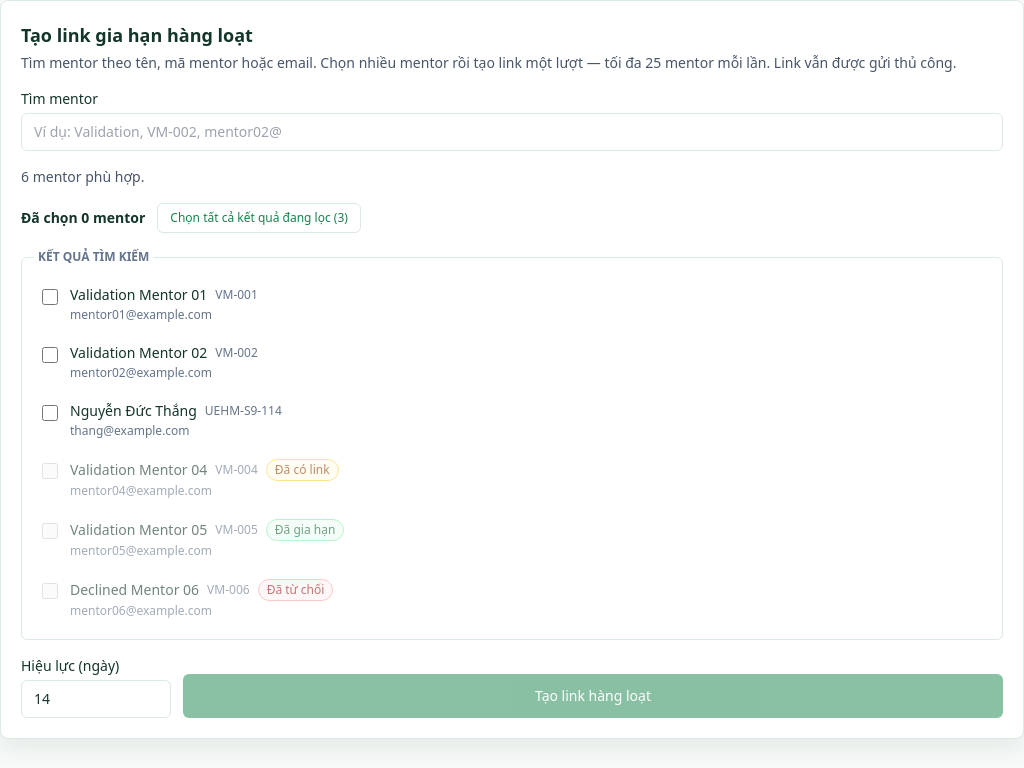
Test: M075 picker — search › filters by mentor code
This screenshot has width=1024, height=768.
Type "VM-003" into the search field labelled "Tìm mentor" at point(512, 132), box left=21, top=113, right=1003, bottom=151
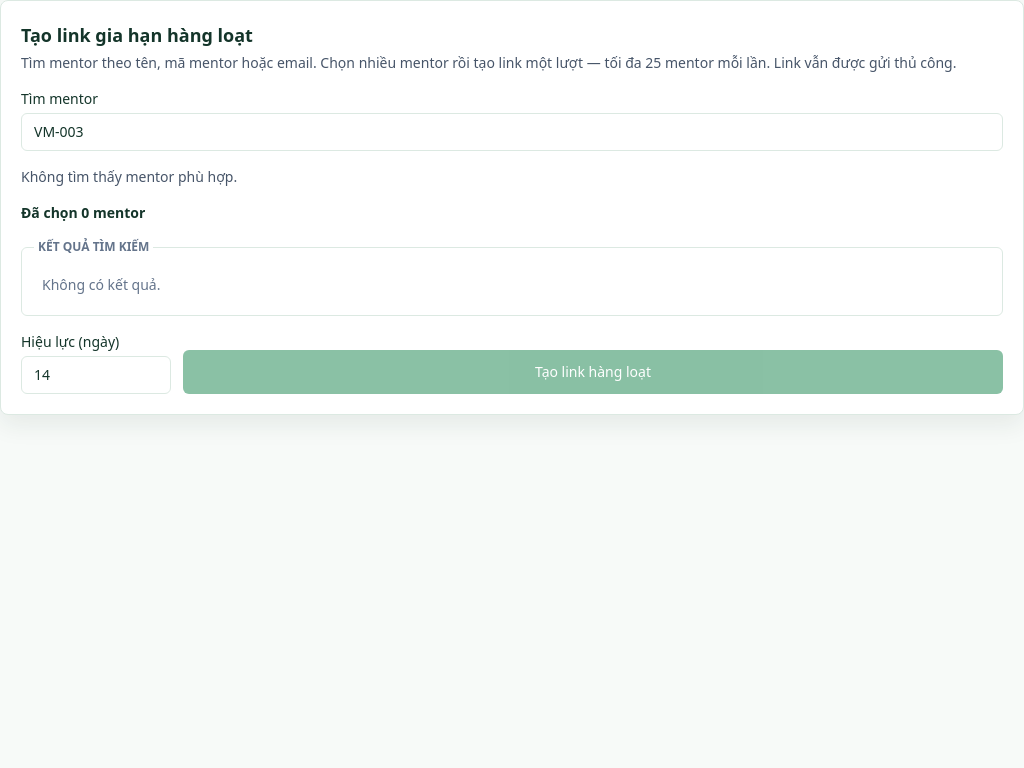
Now the text "Nguyễn Đức Thắng" is gone
Now the text "Validation Mentor 01" is gone
